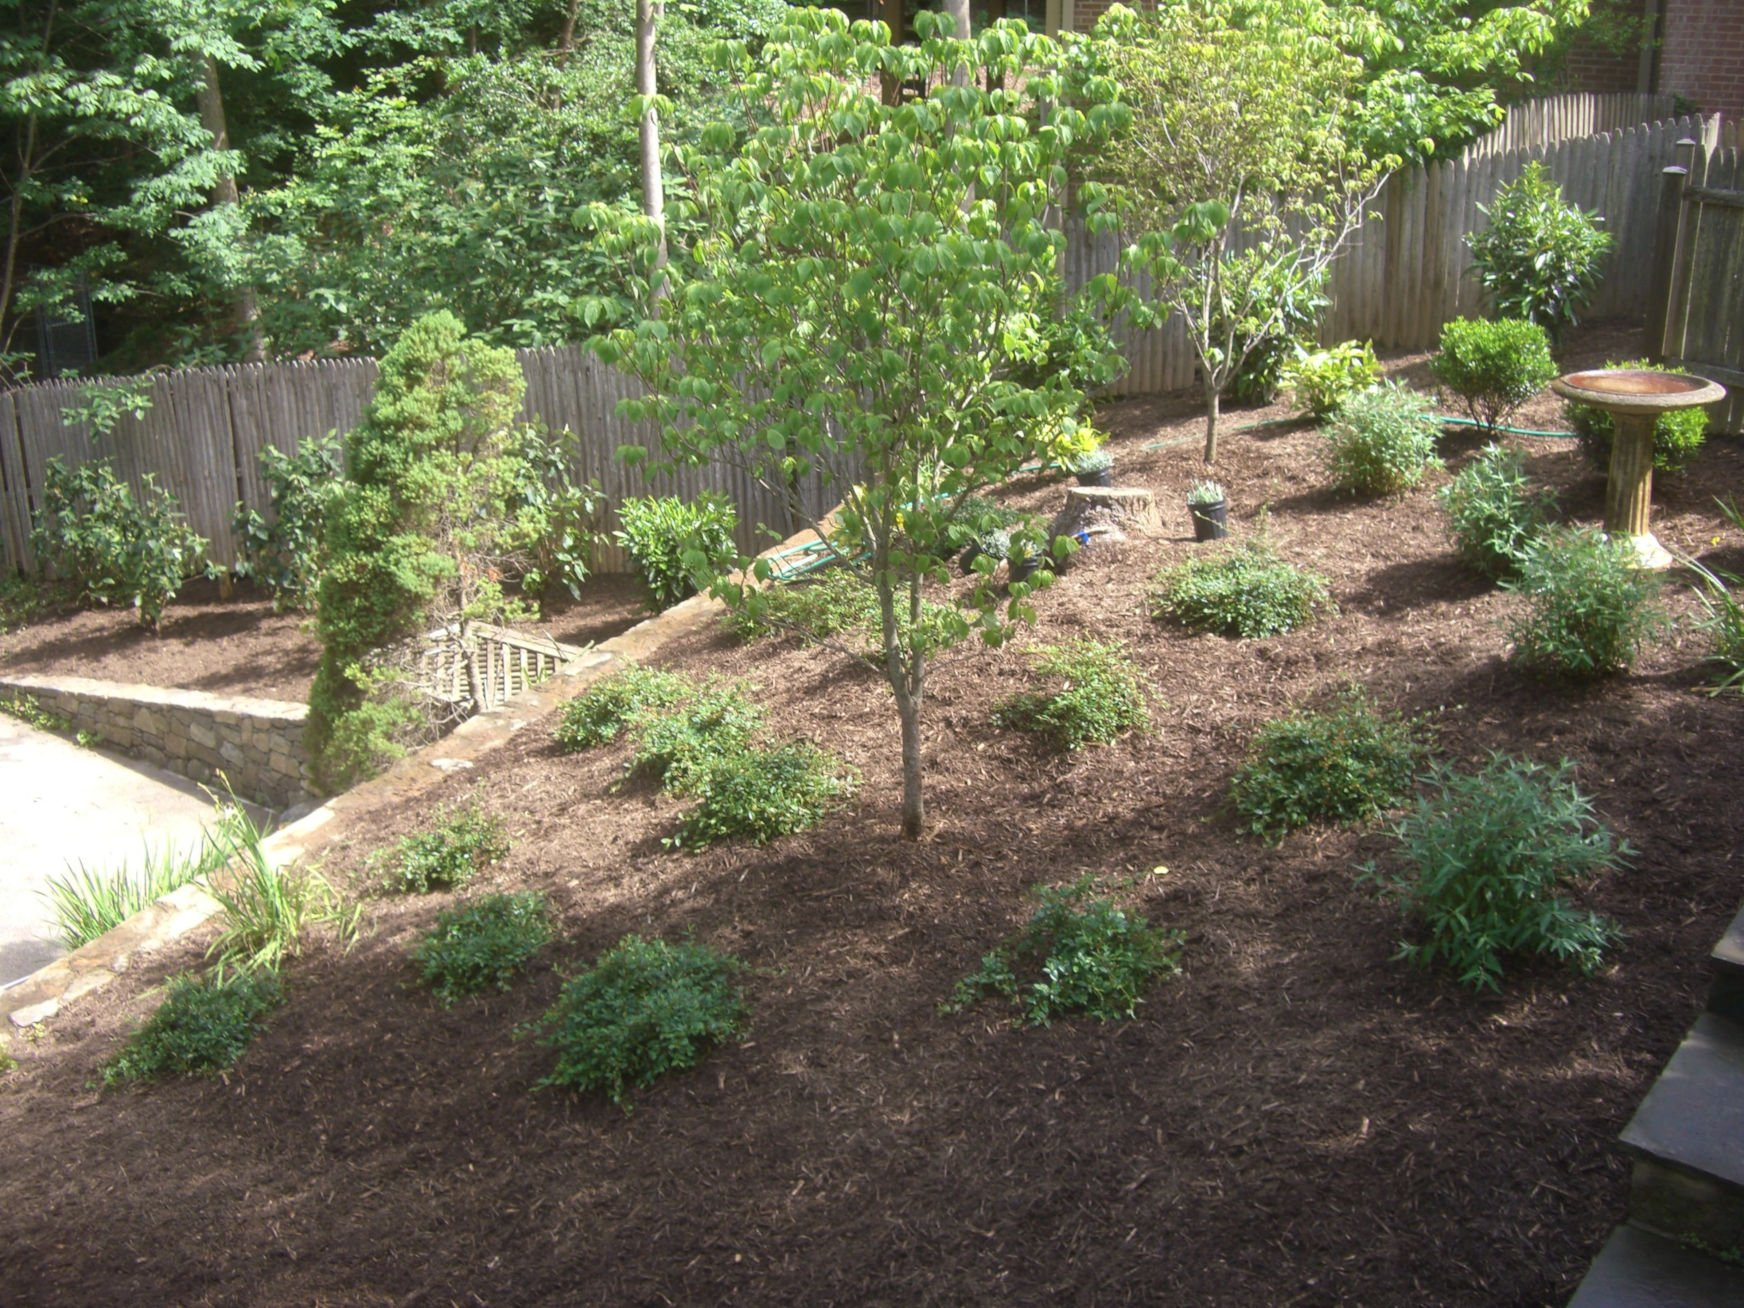tree: (589, 85, 1116, 834), (1042, 1, 1412, 460), (303, 317, 575, 720)
